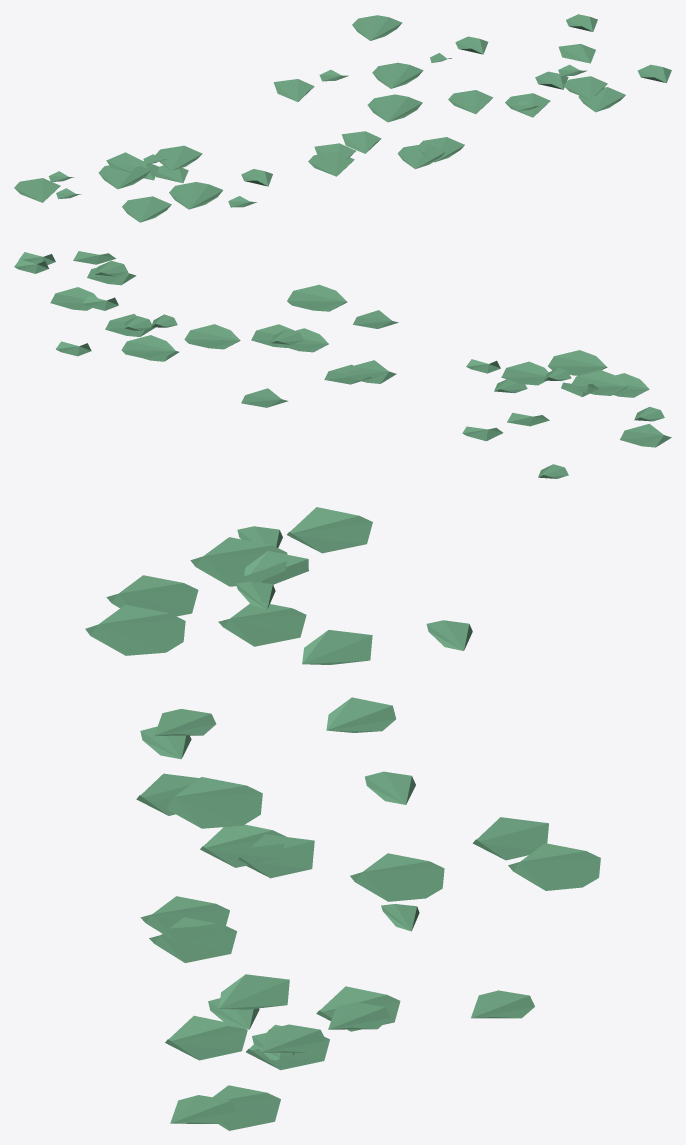
File: xiyuan-vegetation-04-medium.glb
The picture shows the model from 3 angles, top to bottom: view 1: azimuth 30°, elevation 25°; view 2: azimuth 150°, elevation 25°; view 3: azimuth 270°, elevation 25°; orthographic projection. The views are drawn at different scales.
Visible parts, largest first — view 1: scalloped lotus leaves.003; view 2: scalloped lotus leaves.003; view 3: scalloped lotus leaves.003.
Part boxes in pixels (x1,y1,x2,y2): scalloped lotus leaves.003: (14, 14, 671, 222); scalloped lotus leaves.003: (14, 251, 671, 478); scalloped lotus leaves.003: (85, 507, 600, 1130).
Bounding box in the file's own units: 11.86 × 1.05 × 4.27.
